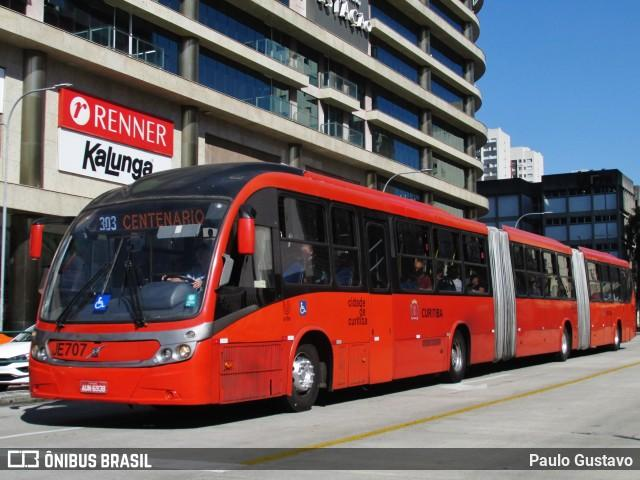CENTENARIO: (118, 205, 207, 233)
